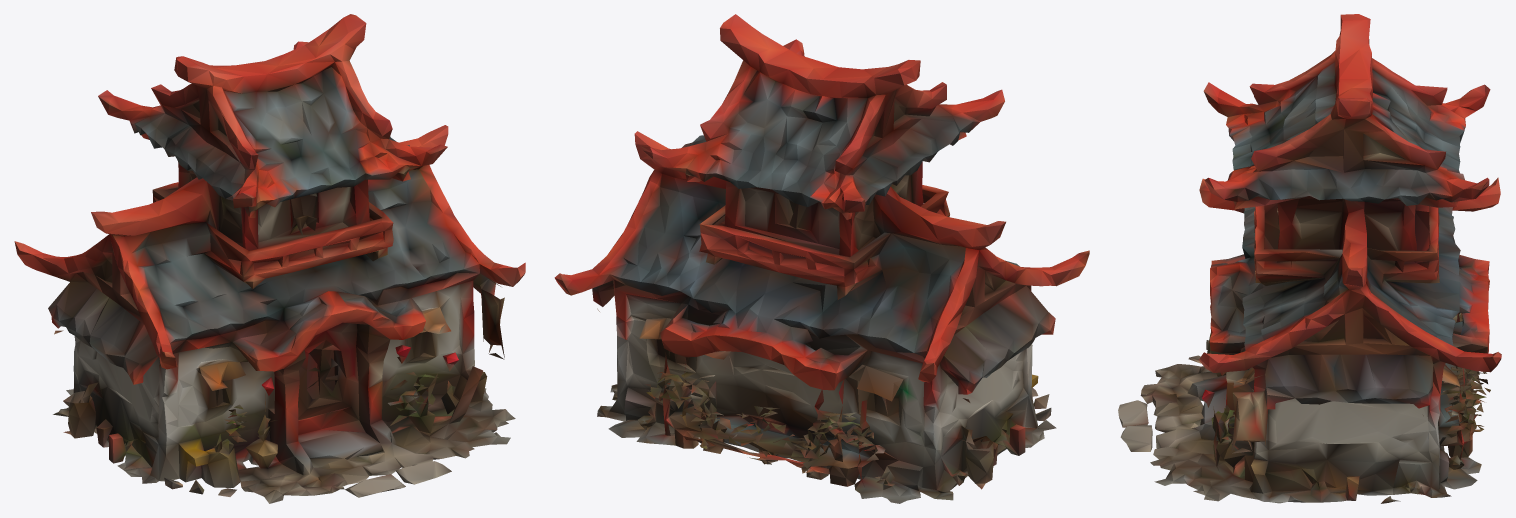
The model's file is bq_teahouse.vc.glb.
The picture shows the model from 3 angles, left to right: view 1: azimuth 30°, elevation 25°; view 2: azimuth 150°, elevation 25°; view 3: azimuth 270°, elevation 25°; orthographic projection. The views are drawn at different scales.
Parts seen in each view (by area): view 1: bq_teahouse; view 2: bq_teahouse; view 3: bq_teahouse.
Boxes of the visible parts, <box> form: bq_teahouse: <box>14,14,525,503</box>; bq_teahouse: <box>554,14,1089,503</box>; bq_teahouse: <box>1118,14,1501,503</box>.
Bounding box in the file's own units: 1.87 × 1.78 × 1.71.
